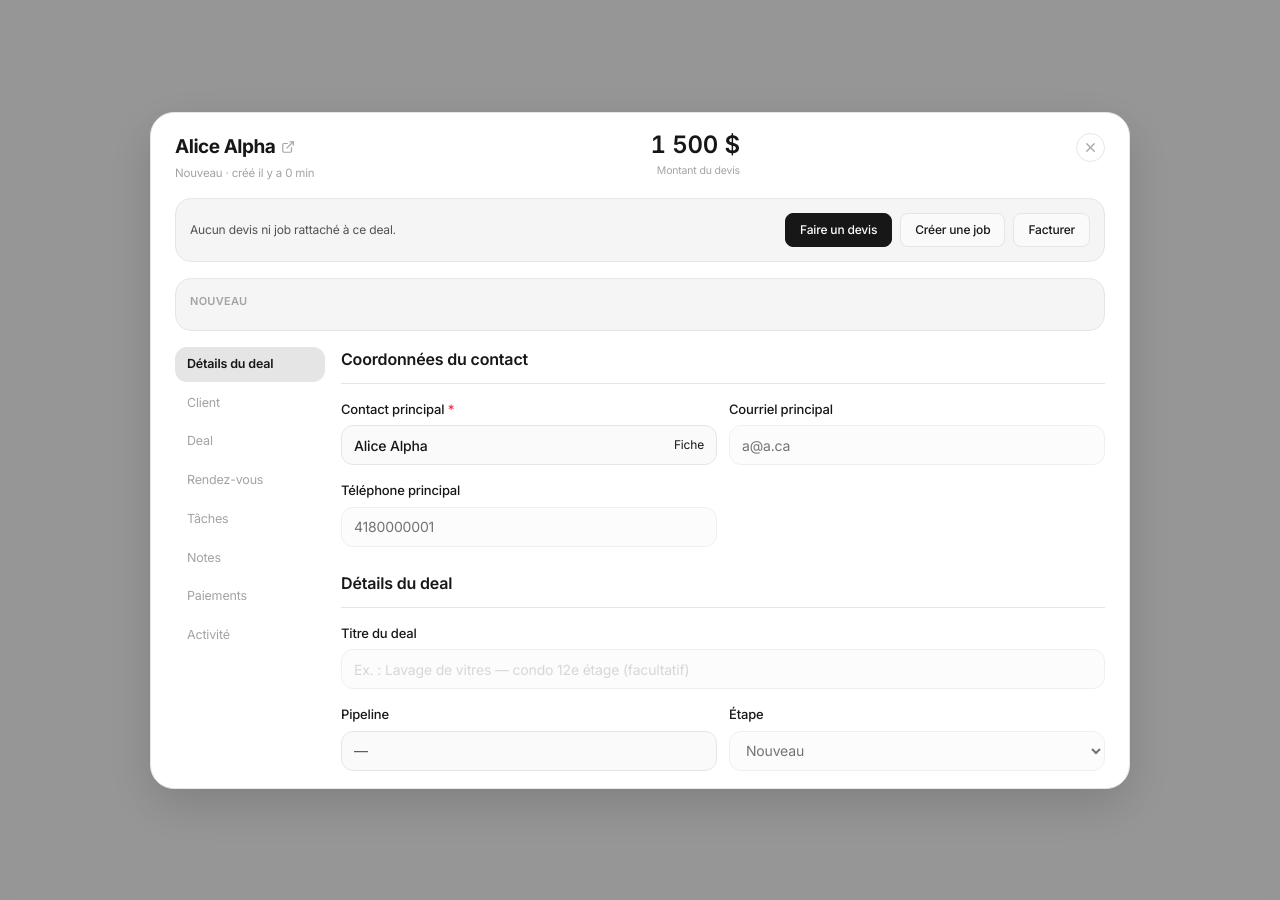
Test: P0-1 — « Gagné » transmet l étape visée › le sélecteur d étape est là
This screenshot has width=1280, height=900.
Click the tab "Deal": click(250, 442) x1=175 y1=424 x2=325 y2=459
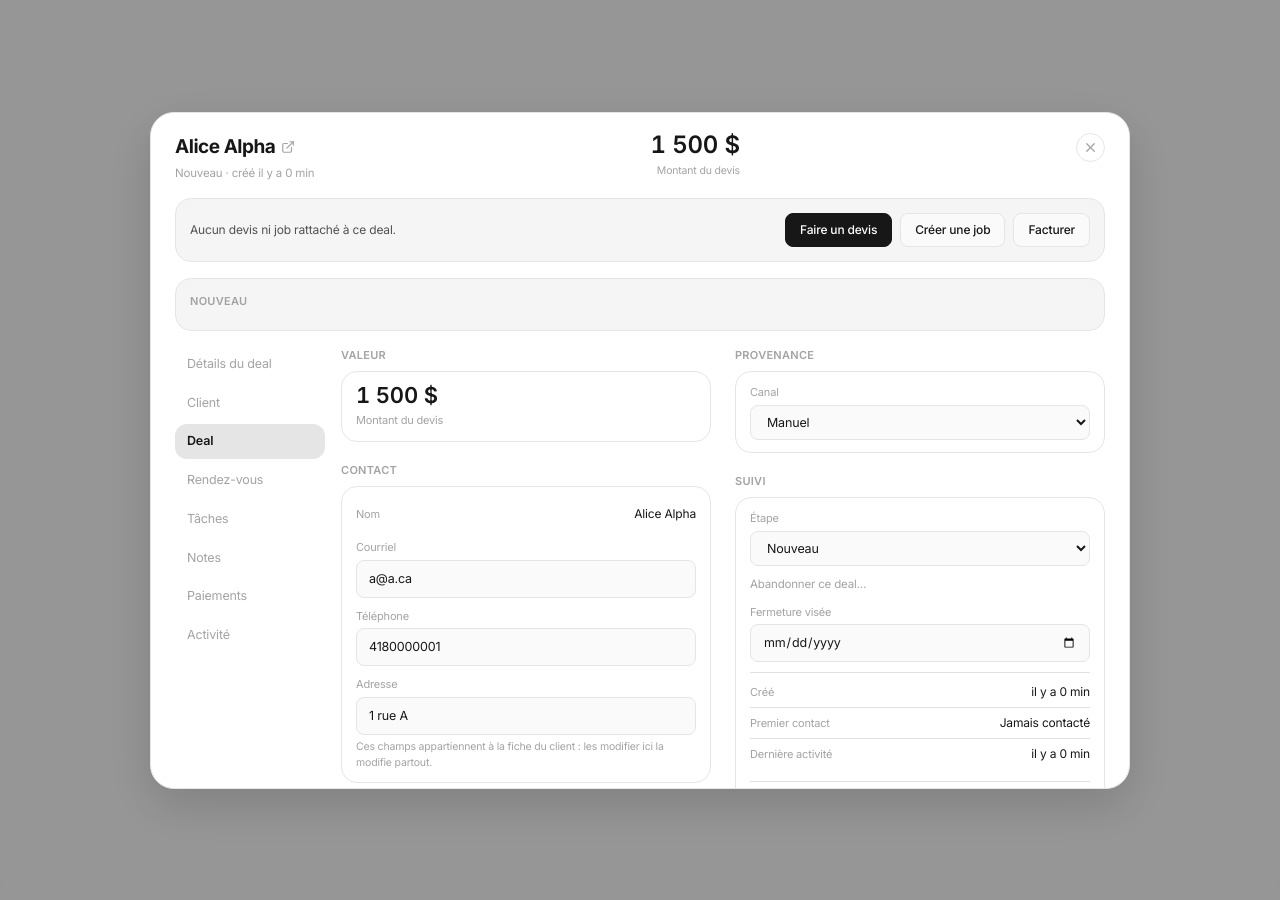
Expected: the dropdown labelled "Étape" is shown, x1=750 y1=531 x2=1090 y2=566
